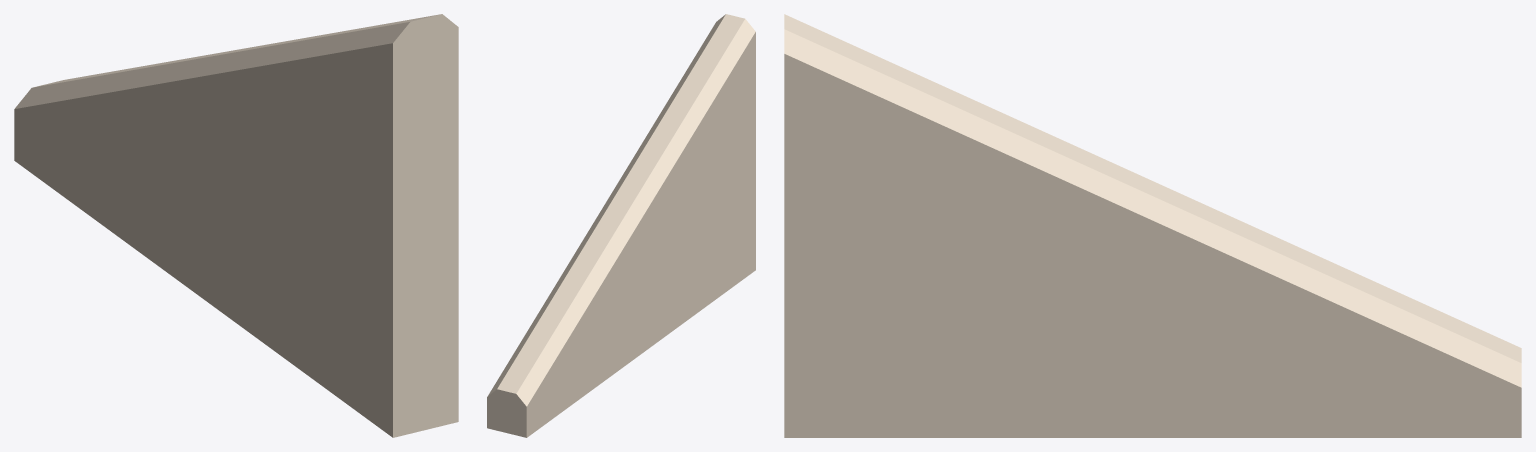
The model's file is Stairs_Coping_Ramp_Straight.glb.
3 renders of one model, left to right at view 1: azimuth 30°, elevation 25°; view 2: azimuth 150°, elevation 25°; view 3: azimuth 270°, elevation 25°, orthographic. The views are drawn at different scales.
Parts seen in each view (by area): view 1: Stairs_Coping_Ramp_Straight; view 2: Stairs_Coping_Ramp_Straight; view 3: Stairs_Coping_Ramp_Straight.
Boxes of the visible parts, x1,y1,x2,y2 form: Stairs_Coping_Ramp_Straight: (14, 14, 458, 437); Stairs_Coping_Ramp_Straight: (487, 14, 755, 437); Stairs_Coping_Ramp_Straight: (784, 14, 1521, 437).
Bounding box in the file's own units: 0.09 × 0.54 × 0.9.
